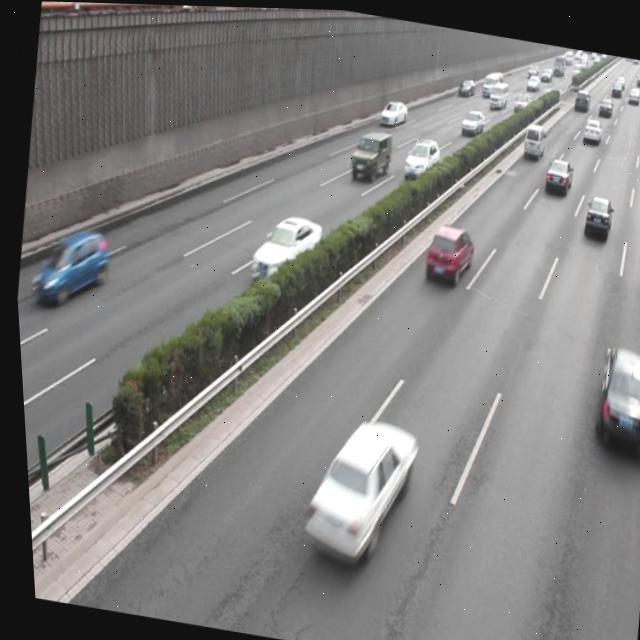car: (291, 406, 421, 568), (31, 219, 111, 314), (584, 335, 640, 457), (242, 208, 323, 287), (418, 216, 475, 286), (345, 123, 394, 183), (397, 131, 442, 183), (580, 191, 611, 236), (540, 152, 572, 192), (375, 92, 408, 129), (518, 118, 545, 158)
